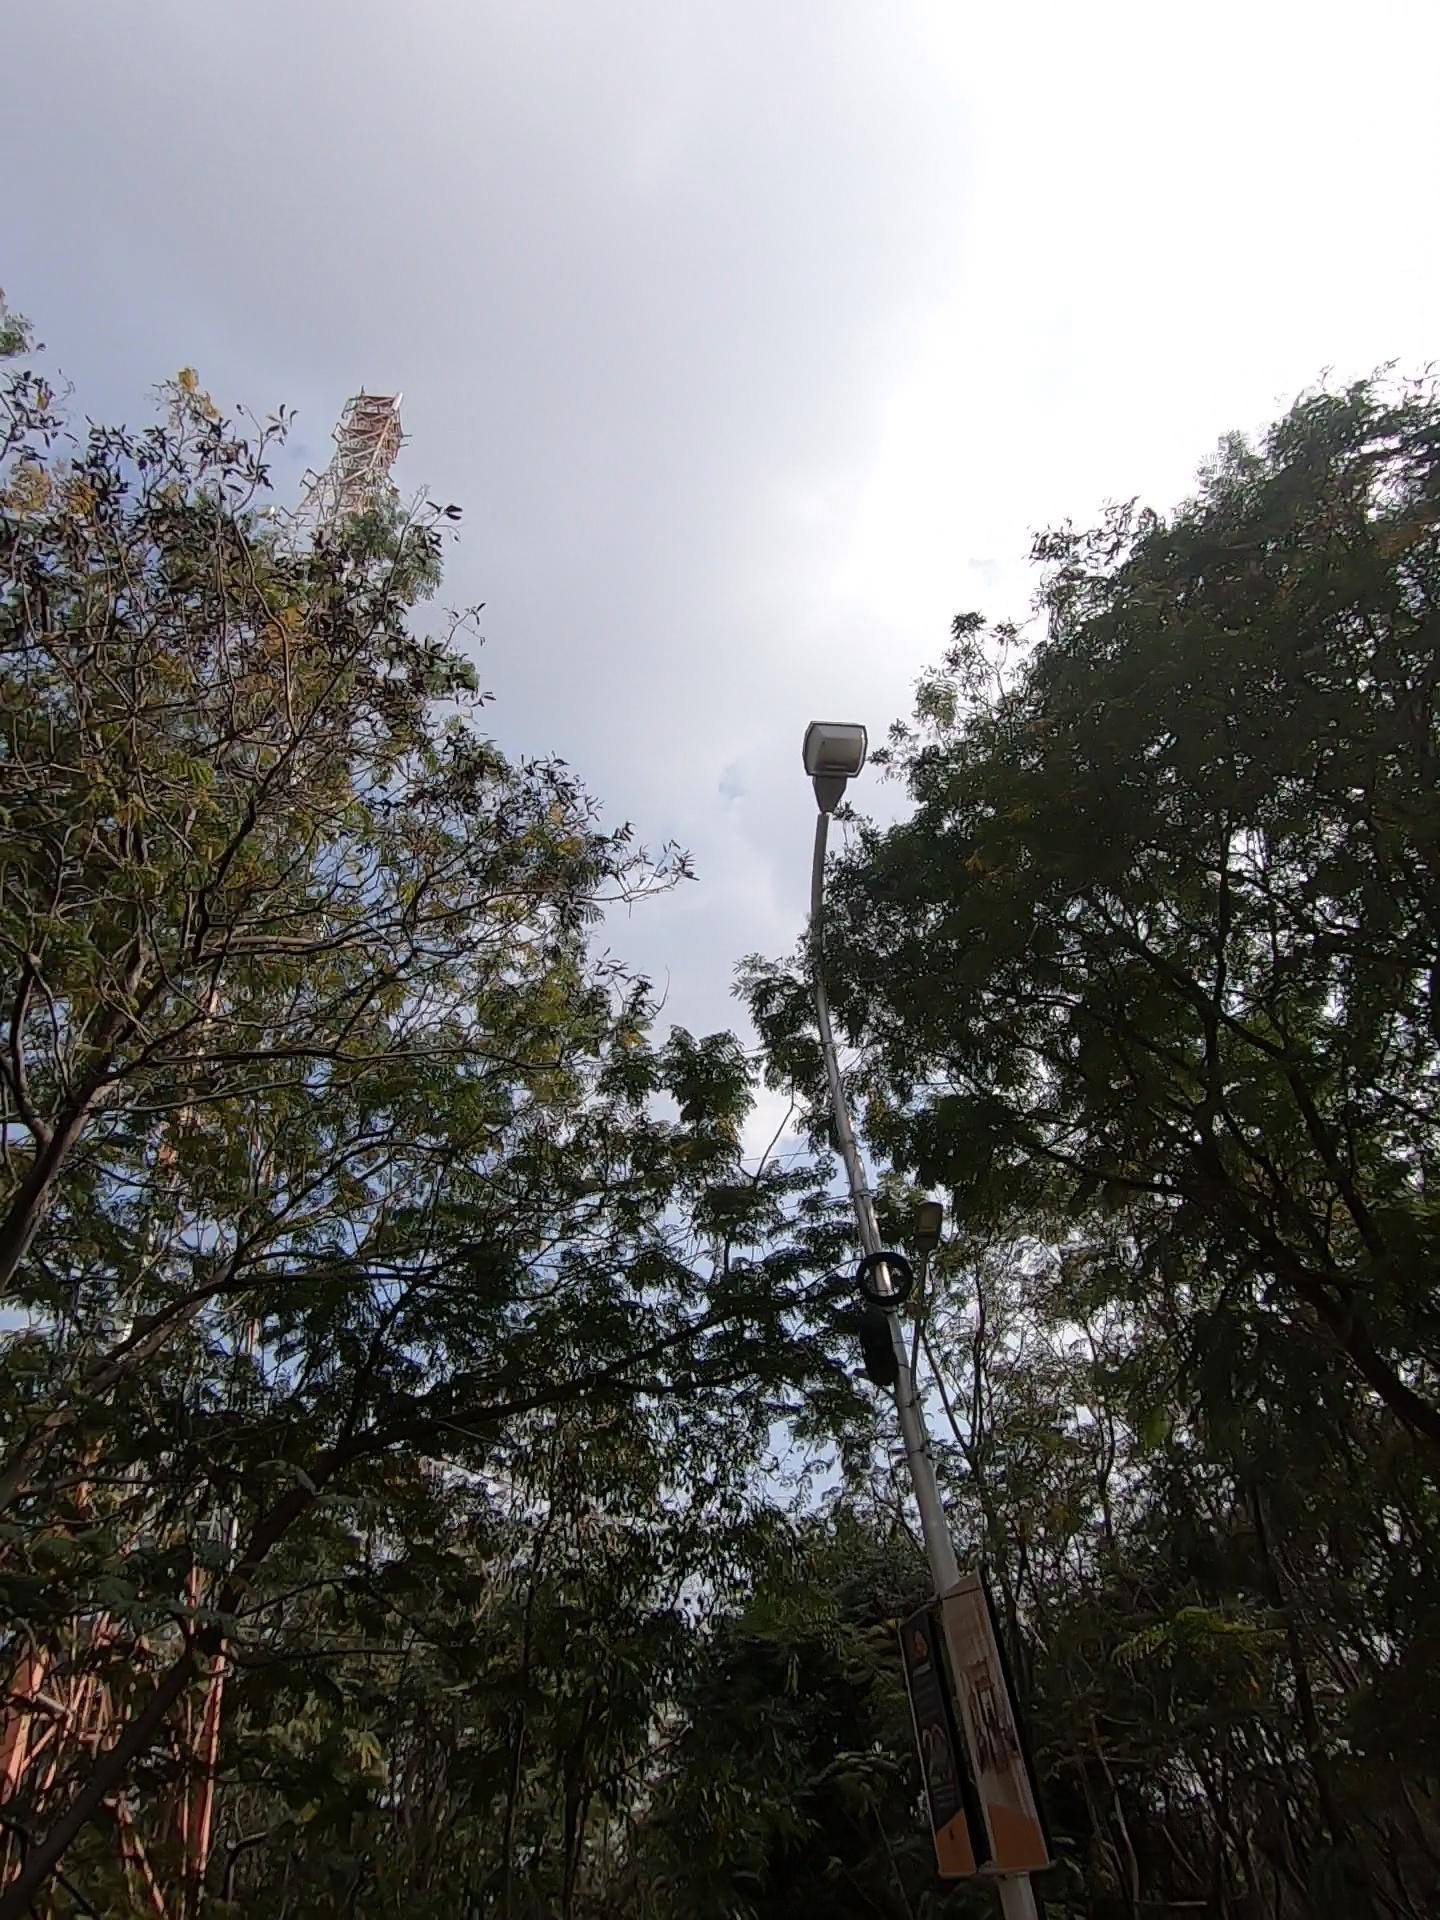off: (785, 652, 939, 1147)
